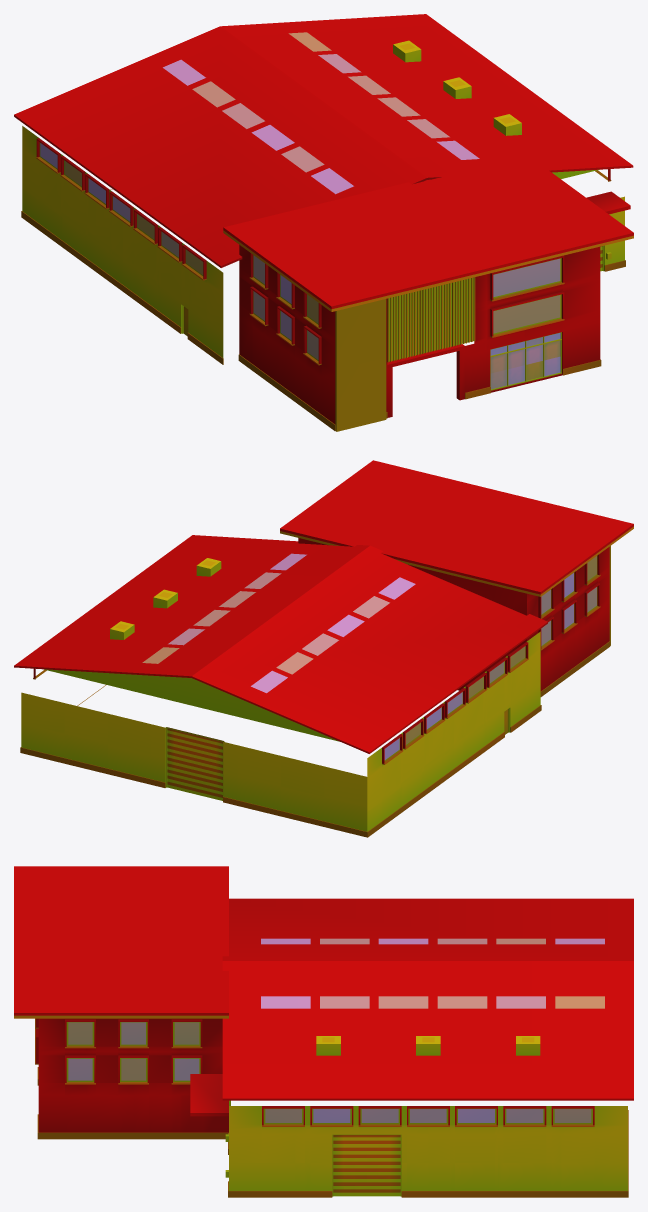
File: factory.glb
3 views of the same model, one above another, from view 1: azimuth 30°, elevation 25°; view 2: azimuth 150°, elevation 25°; view 3: azimuth 270°, elevation 25° (orthographic). The views are drawn at different scales.
Visible parts, largest first — view 1: factory__shed__LOD0; view 2: factory__shed__LOD0; view 3: factory__shed__LOD0.
Part boxes in pixels (left/top/right/bottom): factory__shed__LOD0: left=14, top=14, right=633, bottom=431; factory__shed__LOD0: left=14, top=460, right=633, bottom=837; factory__shed__LOD0: left=14, top=866, right=633, bottom=1197.
Size of what is drawn, in the model's own units: 30.8 by 10 by 40.4.
